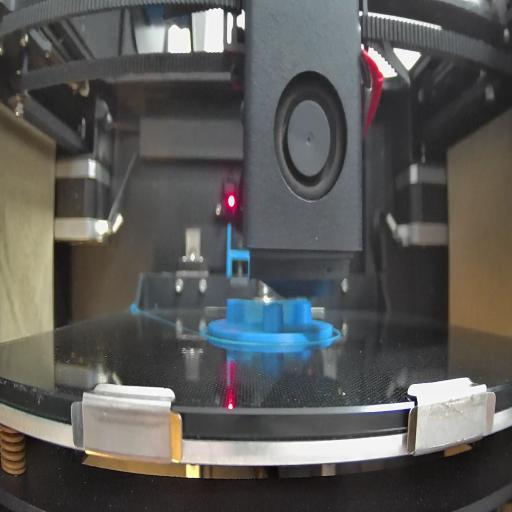stringing: (228, 298, 260, 332), (283, 300, 296, 331)
